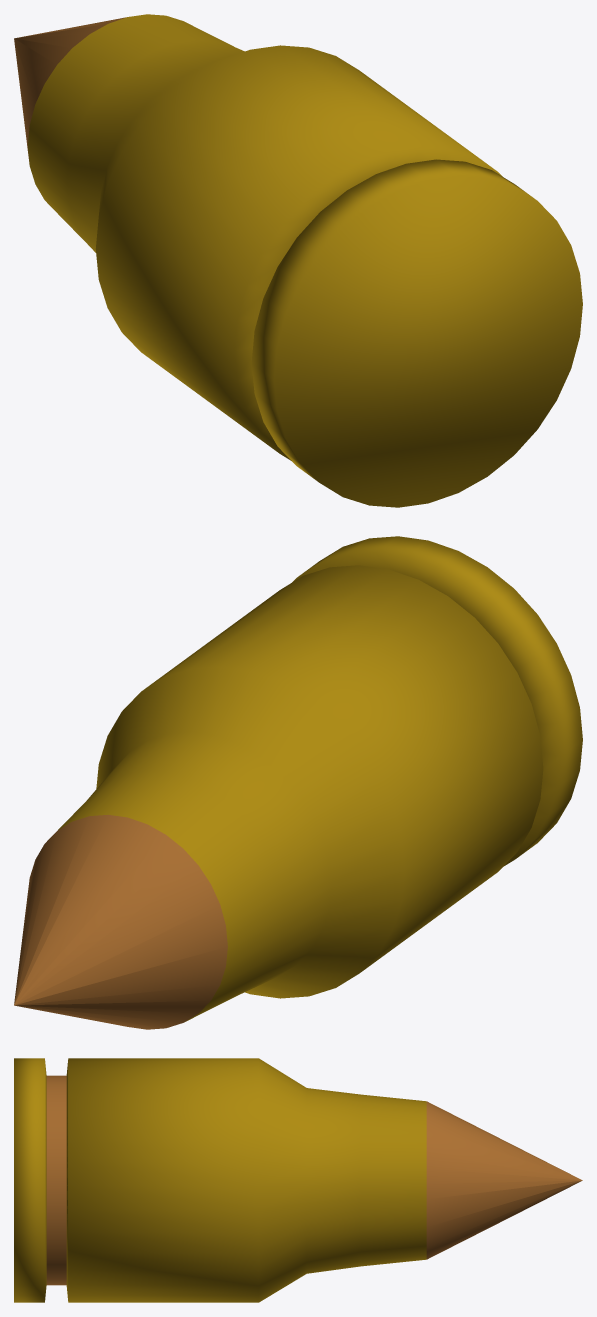
The model's file is Bullets.fbx.
3 views of the same model, one above another, from view 1: azimuth 30°, elevation 25°; view 2: azimuth 150°, elevation 25°; view 3: azimuth 270°, elevation 25° (orthographic). The views are drawn at different scales.
Visible parts, largest first — view 1: Cylinder; view 2: Cylinder; view 3: Cylinder.
Boxes of the visible parts, box(x1,y1,x2,y2) form: Cylinder: box(14, 14, 582, 507); Cylinder: box(14, 536, 582, 1029); Cylinder: box(14, 1058, 582, 1302).
Bounding box in the file's own units: 113 × 113 × 264.
